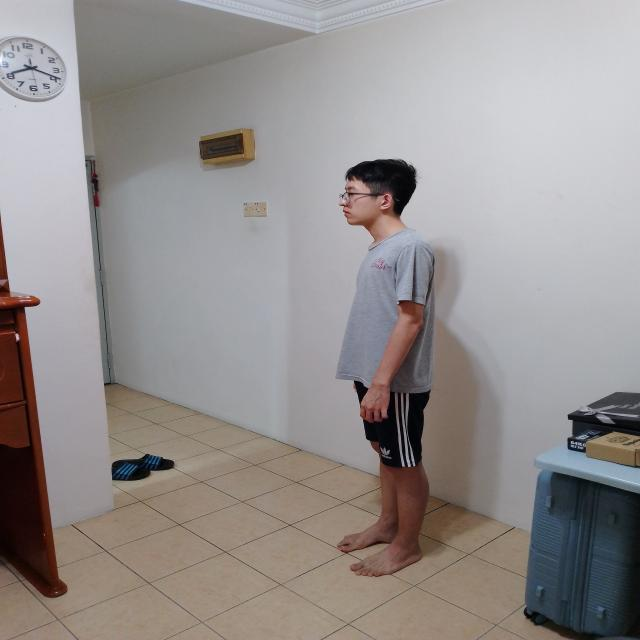person_without_labcoat: (336, 159, 435, 576)
